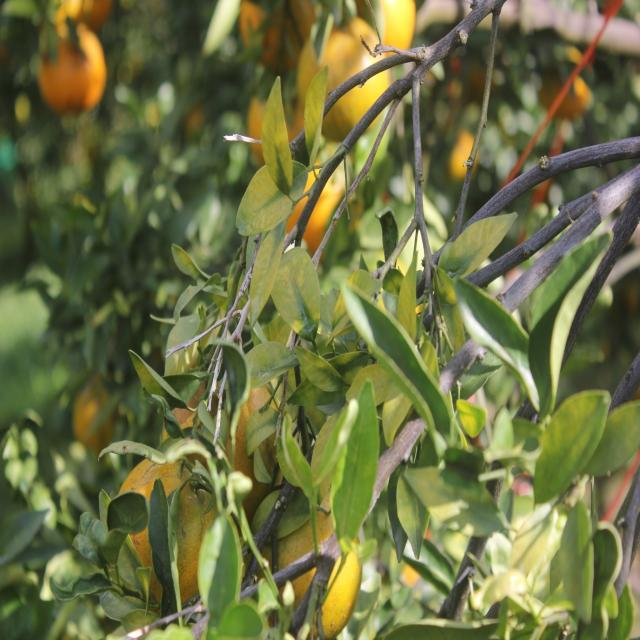greening: (534, 388, 609, 494), (280, 250, 321, 338), (262, 71, 293, 186), (250, 226, 283, 322), (301, 67, 330, 156)
